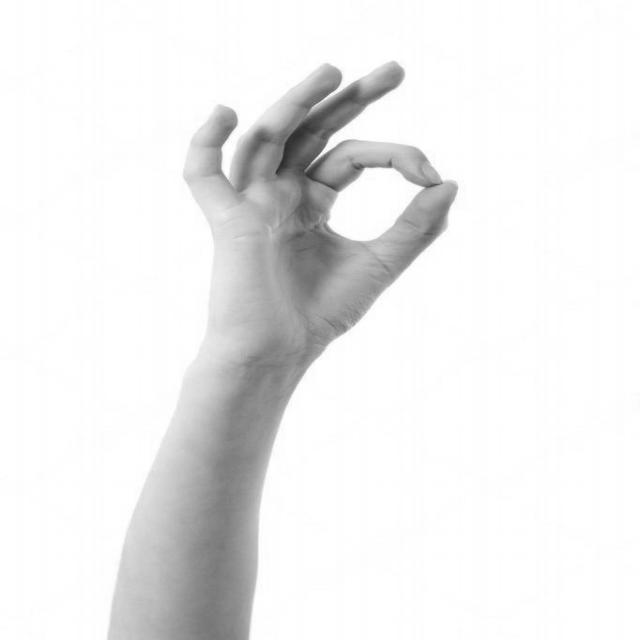perfect: (171, 54, 469, 396)
